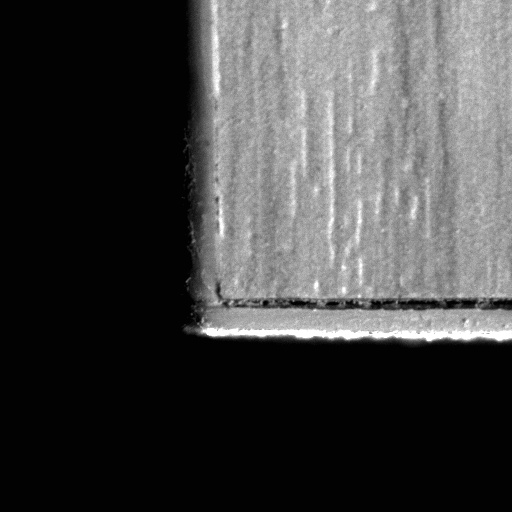kaijiao: (179, 291, 511, 344)
